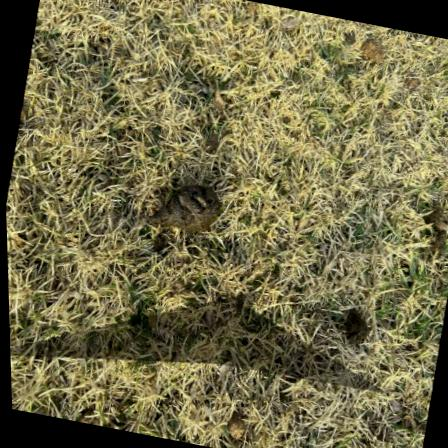dog-poop: (145, 176, 223, 240)
